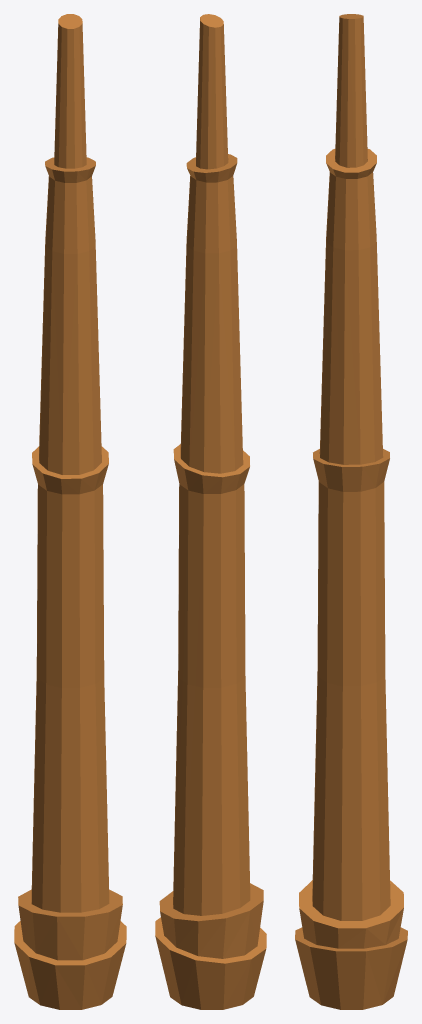
Rendered from Vegetation_Tree_Trunk_Palm_Segmented_Ancient_01.FBX.
The picture shows the model from 3 angles, left to right: view 1: azimuth 90°, elevation 25°; view 2: azimuth 150°, elevation 25°; view 3: azimuth 270°, elevation 25°; orthographic projection.
Parts seen in each view (by area): view 1: Vegetation_Tree_Trunk_Palm_Segmented_Ancient_01; view 2: Vegetation_Tree_Trunk_Palm_Segmented_Ancient_01; view 3: Vegetation_Tree_Trunk_Palm_Segmented_Ancient_01.
Boxes of the visible parts, x1,y1,x2,y2 form: Vegetation_Tree_Trunk_Palm_Segmented_Ancient_01: (14, 14, 126, 1009); Vegetation_Tree_Trunk_Palm_Segmented_Ancient_01: (155, 14, 266, 1009); Vegetation_Tree_Trunk_Palm_Segmented_Ancient_01: (295, 14, 407, 1009).
Size of the model in its own units: 718 by 6933 by 725.
